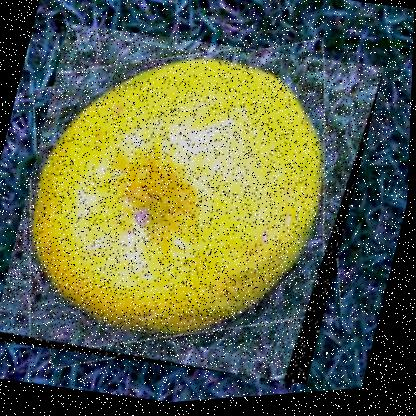orange: (0, 5, 386, 409)
